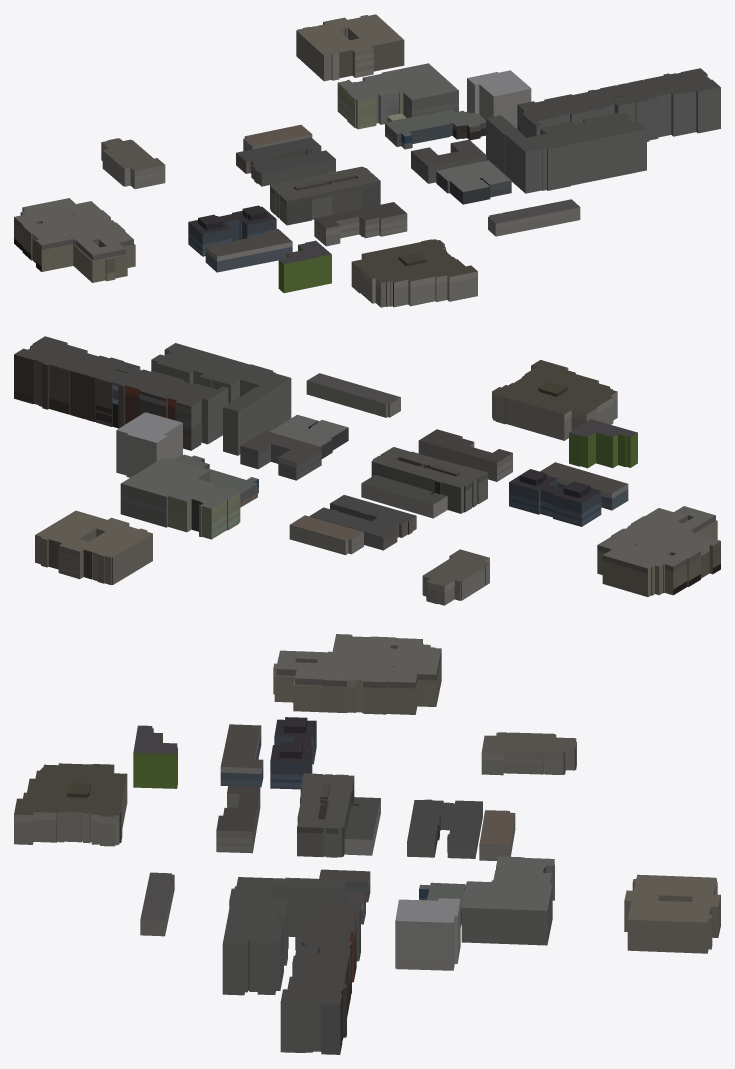
File: t_-4_0.far.glb
3 views of the same model, one above another, from view 1: azimuth 30°, elevation 25°; view 2: azimuth 150°, elevation 25°; view 3: azimuth 270°, elevation 25° (orthographic). The views are drawn at different scales.
Visible parts, largest first — view 1: opaque; view 2: opaque; view 3: opaque.
Part boxes in pixels (bbox=[...]): opaque: bbox=[14, 14, 720, 307]; opaque: bbox=[14, 336, 720, 605]; opaque: bbox=[14, 634, 720, 1054].
Bounding box in the file's own units: 315 × 18.9 × 242.
1 material, 1 textured.
